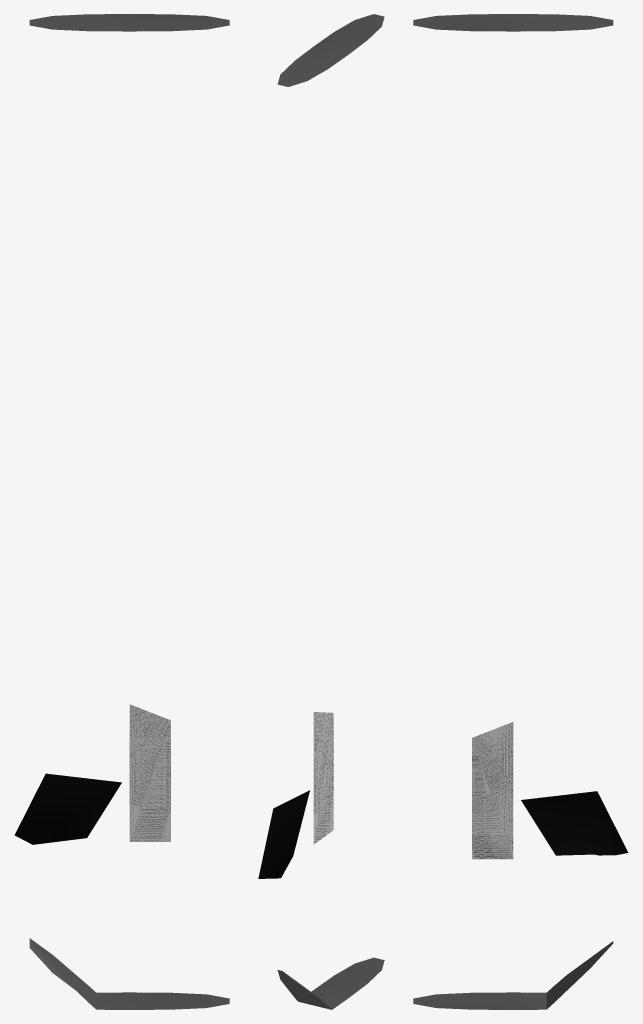
Rendered from newsh4-86-d.glb.
3 views of the same model, side by side, from view 1: azimuth 90°, elevation 25°; view 2: azimuth 150°, elevation 25°; view 3: azimuth 270°, elevation 25° (orthographic). The views are drawn at different scales.
Parts seen in each view (by area): view 1: newsh4-86, newsh4-86_outline; view 2: newsh4-86, newsh4-86_outline; view 3: newsh4-86, newsh4-86_outline.
Boxes of the visible parts, box(x1,y1,x2,y2) form: newsh4-86: box(29, 14, 229, 1009); newsh4-86_outline: box(14, 773, 121, 844); newsh4-86: box(277, 14, 384, 1009); newsh4-86_outline: box(258, 790, 309, 878); newsh4-86: box(413, 14, 613, 1009); newsh4-86_outline: box(521, 791, 628, 855).
Bounding box in the file's own units: 0.0417 × 1.08 × 0.2157.
4 materials, 3 textured.
